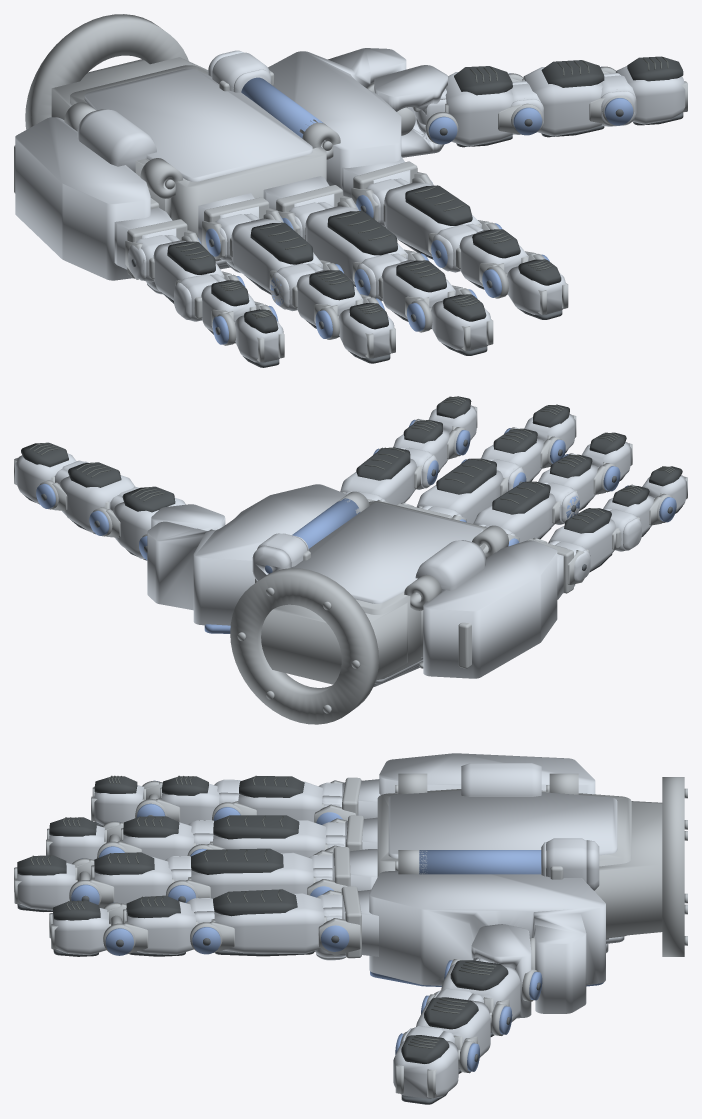
Rendered from kestrel17.glb.
The picture shows the model from 3 angles, top to bottom: view 1: azimuth 30°, elevation 25°; view 2: azimuth 150°, elevation 25°; view 3: azimuth 270°, elevation 25°; orthographic projection. The views are drawn at different scales.
Visible parts, largest first — view 1: visual__palm_ulnar_wing__0, visual__central_palm__1, visual__central_palm__0, visual__palm_radial_wing__0, visual__thumb_proximal__0, visual__thumb_oppose_link__1, visual__thumb_metacarpal__0, visual__ring_proximal__0, visual__index_proximal__0, visual__middle_proximal__0, visual__little_proximal__0, visual__thumb_distal__0 (+43 smaller); view 2: visual__central_palm__0, visual__palm_ulnar_wing__0, visual__palm_radial_wing__0, visual__central_palm__1, visual__ring_proximal__0, visual__middle_proximal__0, visual__little_proximal__0, visual__palm_ulnar_wing__1, visual__index_proximal__0, visual__thumb_proximal__0, visual__palm_radial_wing__1, visual__thumb_metacarpal__0 (+26 smaller); view 3: visual__palm_radial_wing__0, visual__central_palm__1, visual__central_palm__0, visual__palm_ulnar_wing__0, visual__index_proximal__0, visual__palm_radial_wing__1, visual__middle_proximal__0, visual__thumb_oppose_link__1, visual__ring_proximal__0, visual__little_proximal__0, visual__thumb_distal__0, visual__index_middle__0 (+41 smaller).
Boxes of the visible parts, x1=… form: visual__palm_ulnar_wing__0: x1=15, y1=109, x2=179, y2=294; visual__central_palm__1: x1=84, y1=50, x2=334, y2=273; visual__central_palm__0: x1=25, y1=14, x2=326, y2=264; visual__palm_radial_wing__0: x1=268, y1=48, x2=410, y2=228; visual__thumb_proximal__0: x1=523, y1=67, x2=636, y2=136; visual__thumb_oppose_link__1: x1=374, y1=65, x2=447, y2=157; visual__thumb_metacarpal__0: x1=445, y1=72, x2=543, y2=146; visual__ring_proximal__0: x1=231, y1=218, x2=323, y2=311; visual__index_proximal__0: x1=384, y1=182, x2=483, y2=272; visual__middle_proximal__0: x1=305, y1=206, x2=407, y2=301; visual__little_proximal__0: x1=153, y1=240, x2=226, y2=321; visual__thumb_distal__0: x1=615, y1=66, x2=685, y2=124; visual__central_palm__0: x1=230, y1=501, x2=487, y2=724; visual__palm_ulnar_wing__0: x1=415, y1=540, x2=575, y2=678; visual__palm_radial_wing__0: x1=147, y1=484, x2=346, y2=625; visual__central_palm__1: x1=252, y1=503, x2=482, y2=687; visual__ring_proximal__0: x1=473, y1=482, x2=579, y2=542; visual__middle_proximal__0: x1=417, y1=459, x2=524, y2=523; visual__little_proximal__0: x1=548, y1=508, x2=641, y2=570; visual__palm_ulnar_wing__1: x1=404, y1=525, x2=508, y2=668; visual__index_proximal__0: x1=340, y1=447, x2=437, y2=505; visual__thumb_proximal__0: x1=55, y1=460, x2=134, y2=532; visual__palm_radial_wing__1: x1=204, y1=498, x2=360, y2=633; visual__thumb_metacarpal__0: x1=110, y1=486, x2=185, y2=558; visual__palm_radial_wing__0: x1=315, y1=870, x2=605, y2=1013; visual__central_palm__1: x1=314, y1=790, x2=624, y2=952; visual__central_palm__0: x1=377, y1=777, x2=687, y2=956; visual__palm_ulnar_wing__0: x1=322, y1=753, x2=595, y2=818; visual__index_proximal__0: x1=186, y1=893, x2=324, y2=954; visual__palm_radial_wing__1: x1=370, y1=850, x2=603, y2=986; visual__middle_proximal__0: x1=165, y1=852, x2=313, y2=898; visual__thumb_oppose_link__1: x1=471, y1=924, x2=531, y2=1018; visual__ring_proximal__0: x1=188, y1=820, x2=325, y2=857; visual__little_proximal__0: x1=214, y1=779, x2=322, y2=822; visual__thumb_distal__0: x1=393, y1=1040, x2=458, y2=1098; visual__index_middle__0: x1=126, y1=901, x2=195, y2=955.
Size of the model in its own units: 0.2162 by 0.056 by 0.2096.
